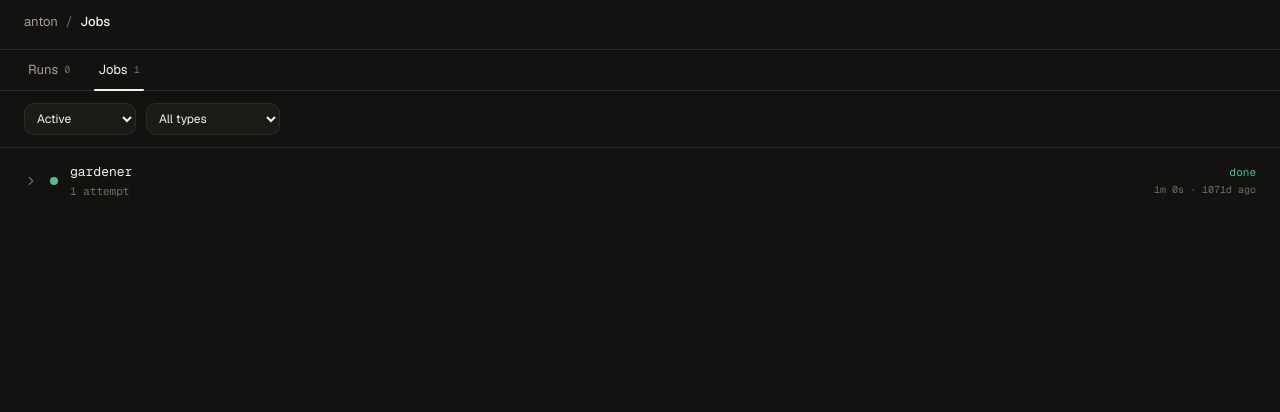
jobs page — what each pass applied, shadowed and refused › reads a pass that applied nothing as a clean pass, not as an empty state
Expected: the text "applied" is not shown
Click the button "gardener 1 attempt": (101, 171) [24,162,1142,200]
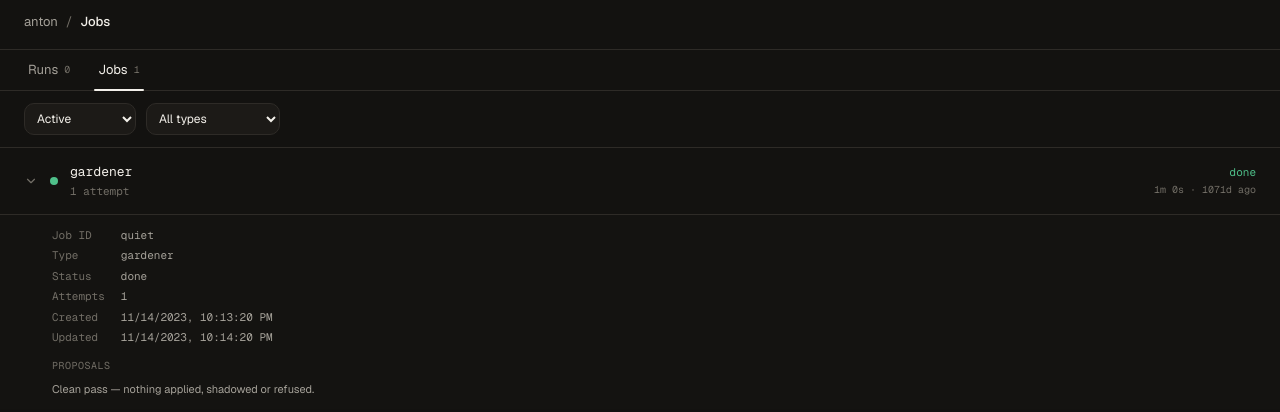
Expected: the text "Clean pass — nothing applied, shadowed or refused." is shown, [52,382,314,396]
